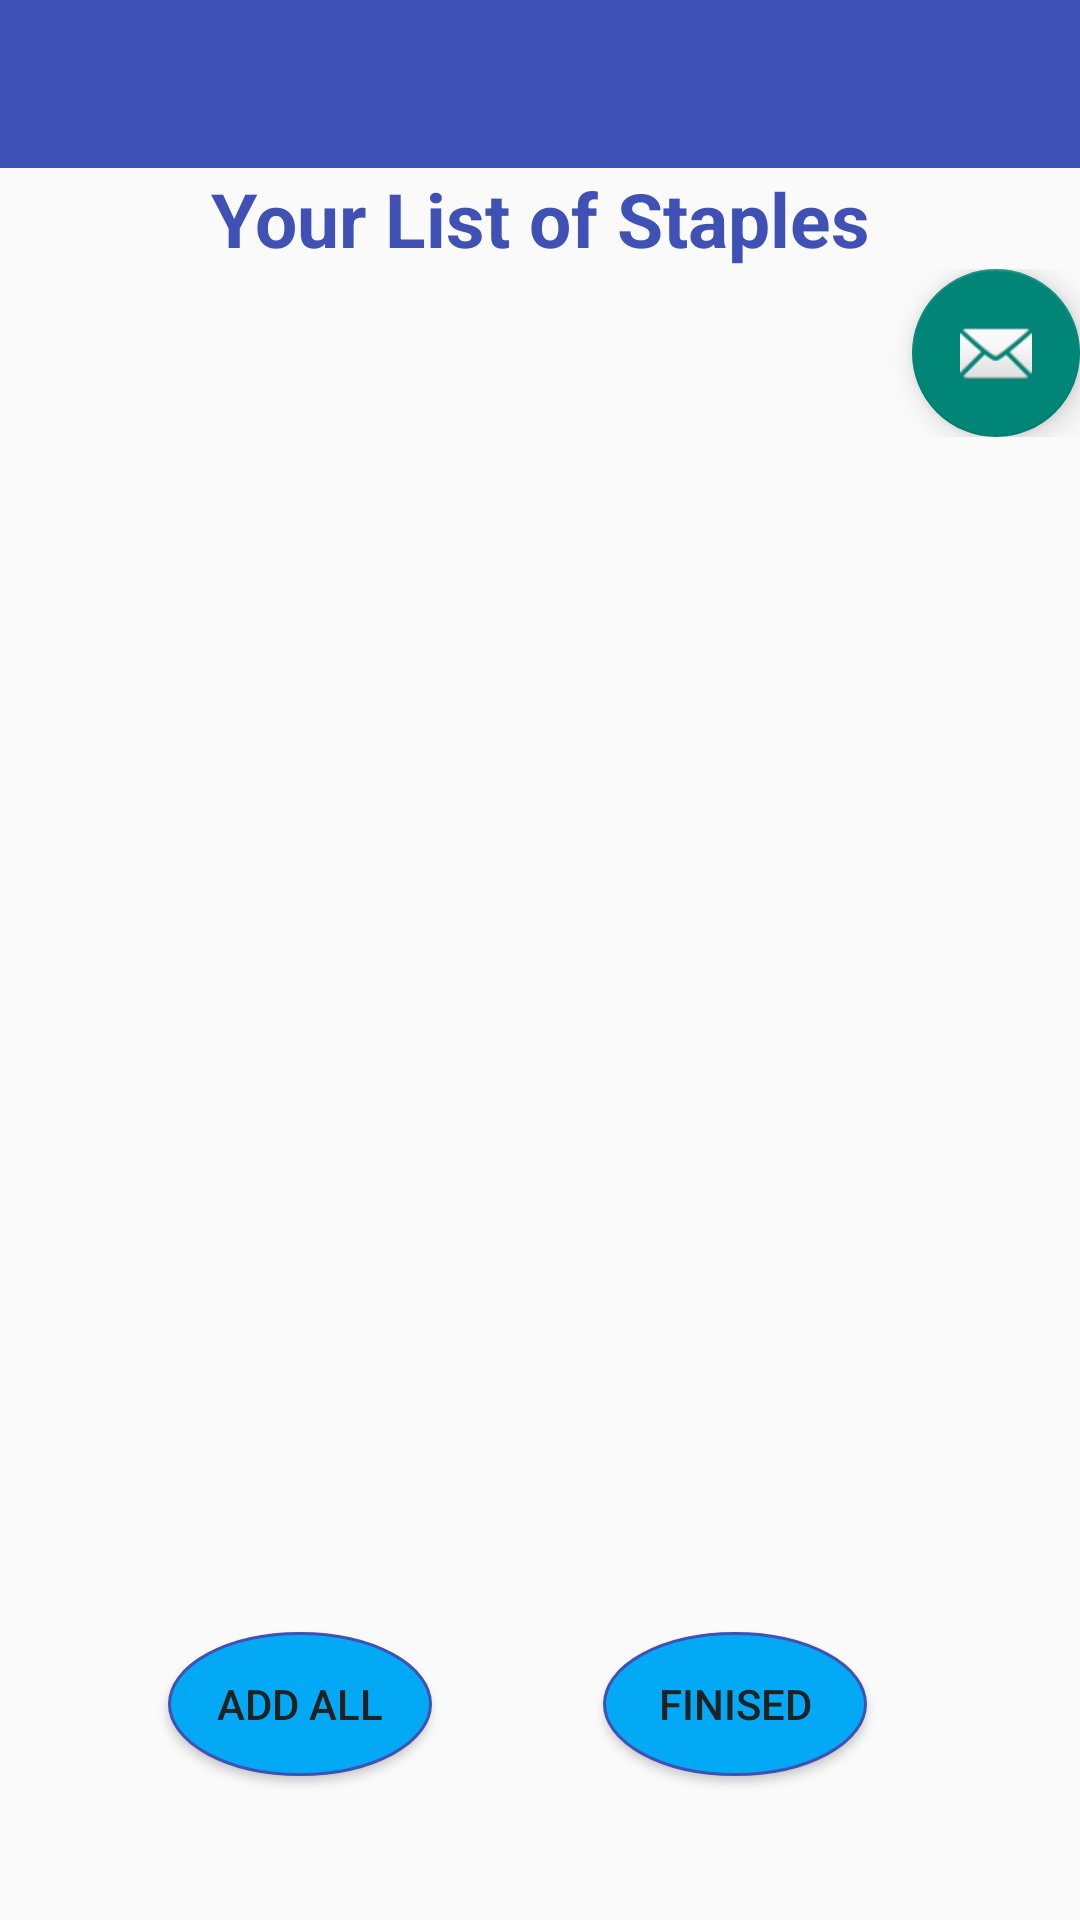

Screen size 1080px x 1920px. Icon name, then its box in pixels as bbox=[x1, y1, x2, y2]:
email: bbox=[912, 269, 1080, 437]
